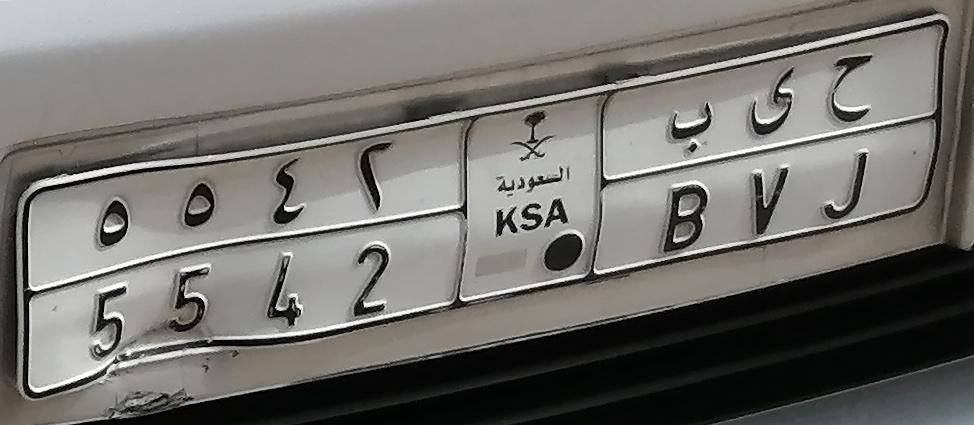2: (353, 139, 394, 321)
4: (262, 156, 313, 329)
5: (81, 194, 136, 358), (164, 182, 217, 337)
B: (660, 102, 716, 254)
J: (820, 53, 874, 219)
V: (745, 63, 799, 237)
